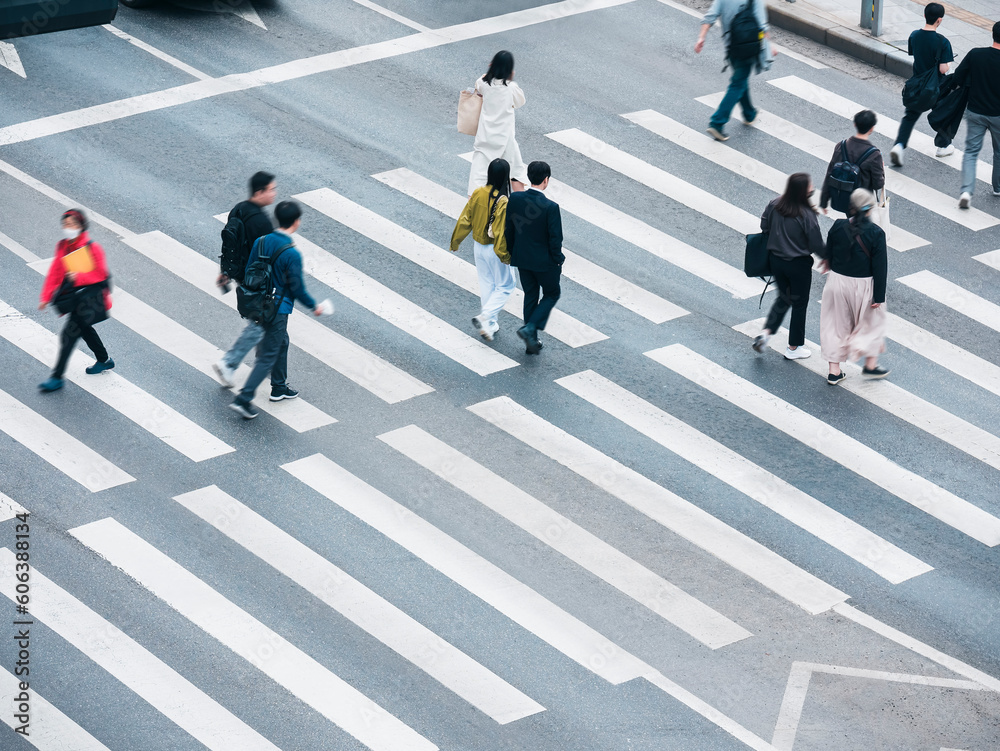Crosswalk: (9, 399, 974, 750)
Person: (33, 204, 129, 395), (232, 198, 311, 420), (748, 160, 821, 365), (820, 183, 893, 387), (502, 158, 567, 360), (687, 1, 778, 139), (455, 45, 536, 192), (886, 4, 957, 170), (456, 158, 515, 342), (952, 21, 1000, 209)
